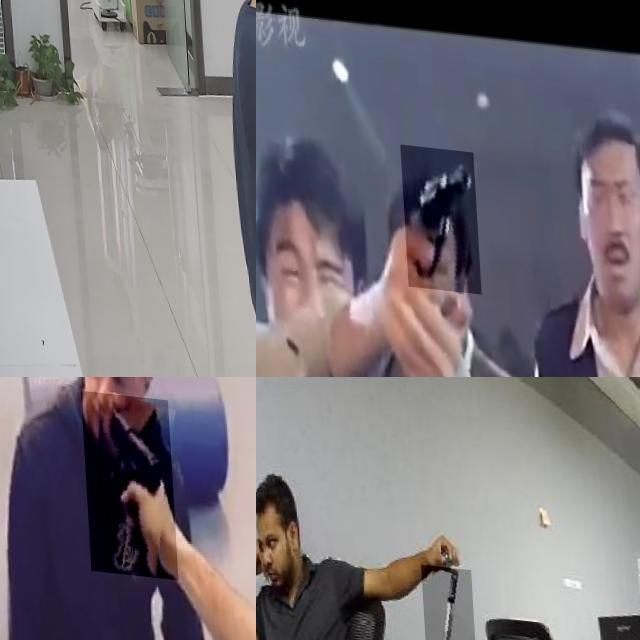-: (416, 558, 471, 640)
gun-knife-thesis - v11 Yolov5 augmented: (78, 383, 172, 571), (399, 140, 478, 288)
